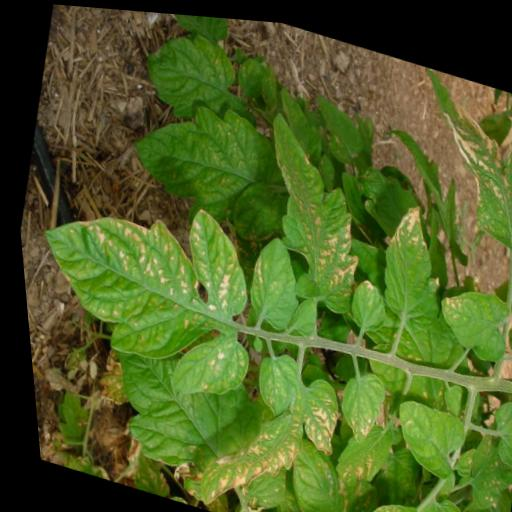Bacterial Spot: (11, 161, 276, 411), (230, 102, 385, 315), (162, 336, 347, 512), (113, 78, 294, 243), (380, 55, 512, 276), (361, 188, 446, 322), (223, 223, 308, 336), (378, 388, 465, 478), (423, 269, 512, 351), (323, 358, 385, 440), (336, 267, 389, 333)
